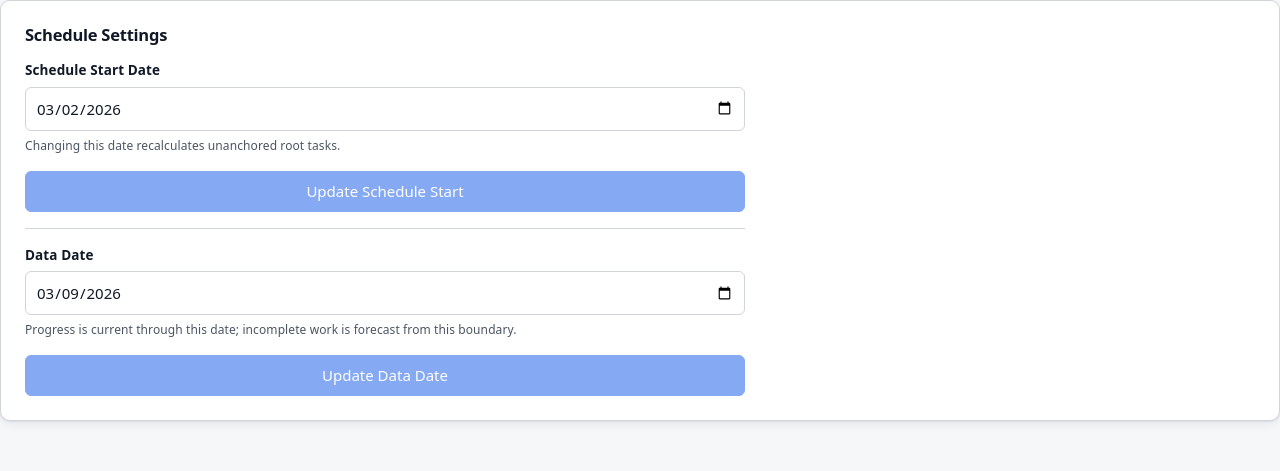
Test case: ScheduleStartControl › validates the Data Date before issuing a request
Clear the date field labelled "Data Date" at (385, 293), box top-left (25, 271), bottom-right (745, 316)
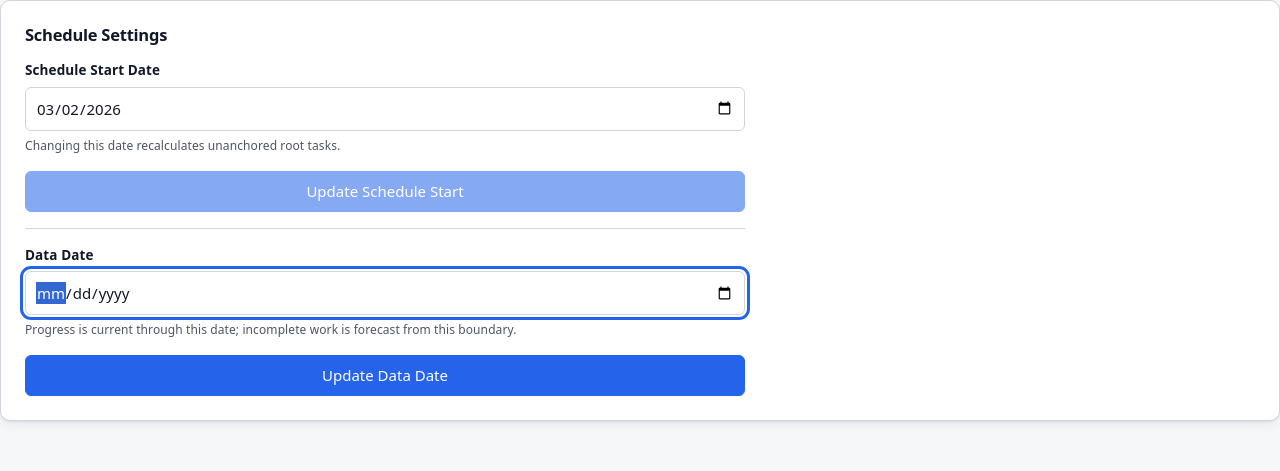
Click the button "Update Data Date" at (385, 376), box top-left (25, 356), bottom-right (745, 396)
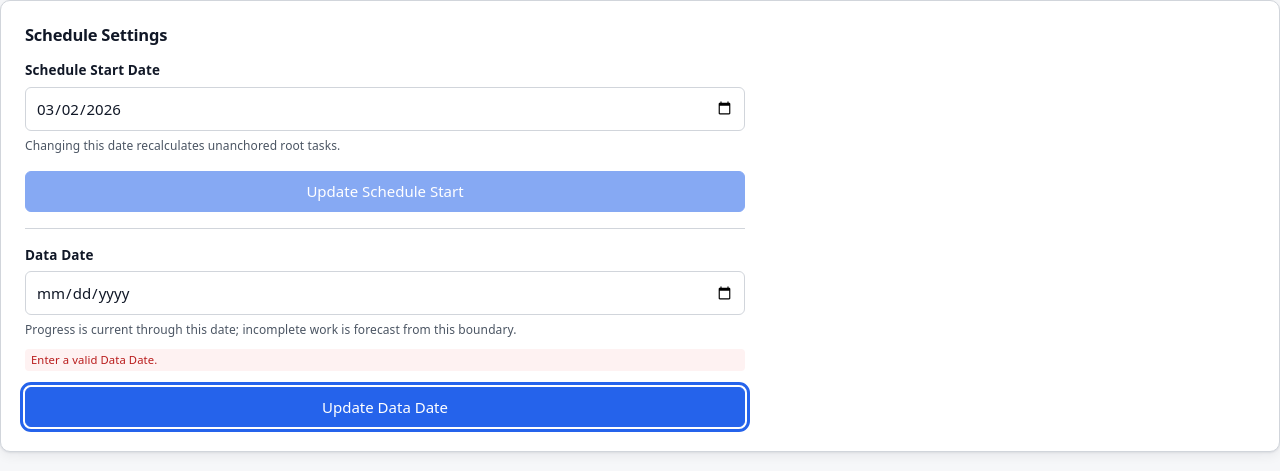
Expected: the message reads "Enter a valid Data Date.", top-left (31, 352), bottom-right (157, 368)
